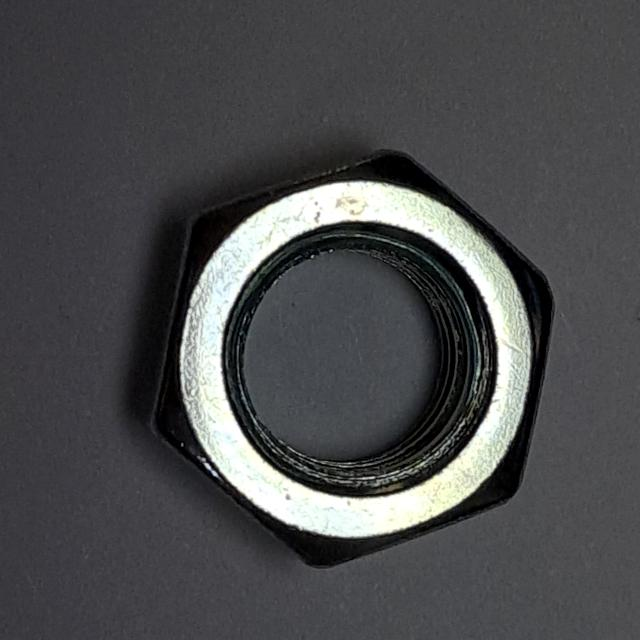Excellent: (134, 136, 566, 581)
